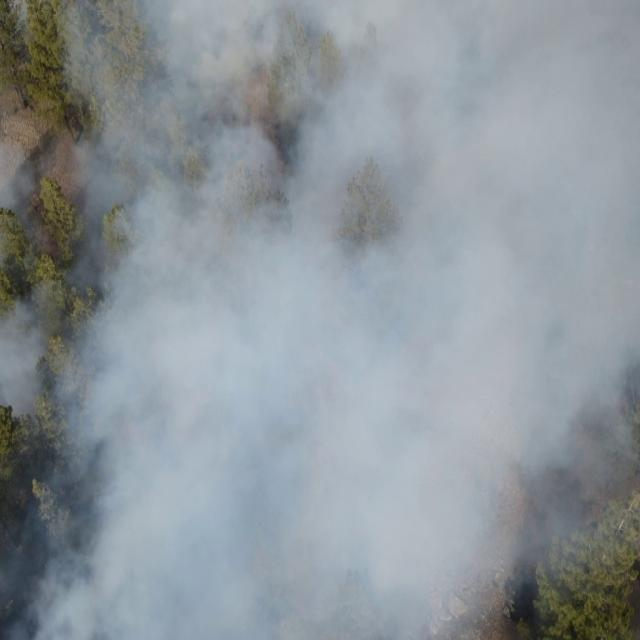smoke: (40, 1, 522, 640), (522, 0, 640, 584), (0, 149, 43, 417), (3, 487, 42, 640), (0, 0, 40, 52)
